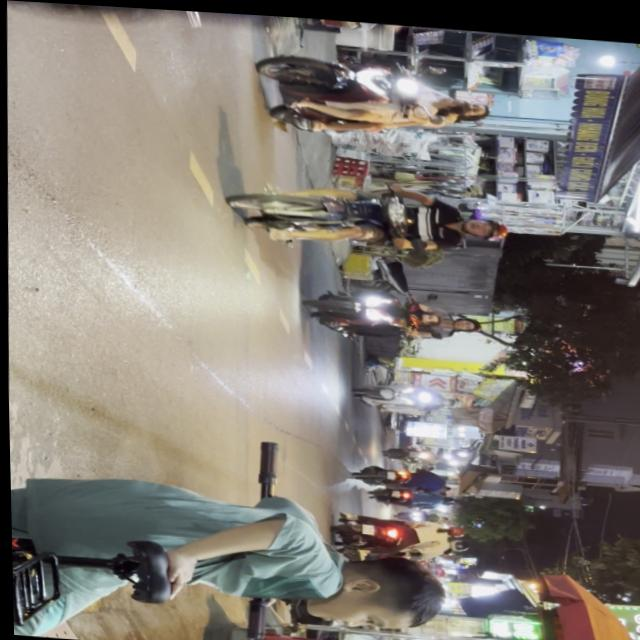helmet: (459, 210, 508, 235), (450, 91, 489, 114)
licenseplate: (5, 0, 572, 61), (224, 168, 510, 256), (253, 45, 493, 141)
